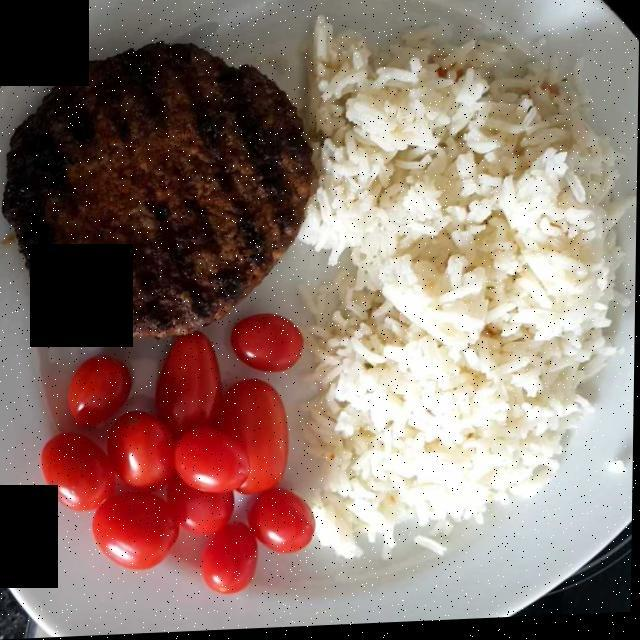hamburger: (11, 46, 312, 335)
rice: (310, 30, 619, 550)
tomato: (48, 341, 311, 586)
